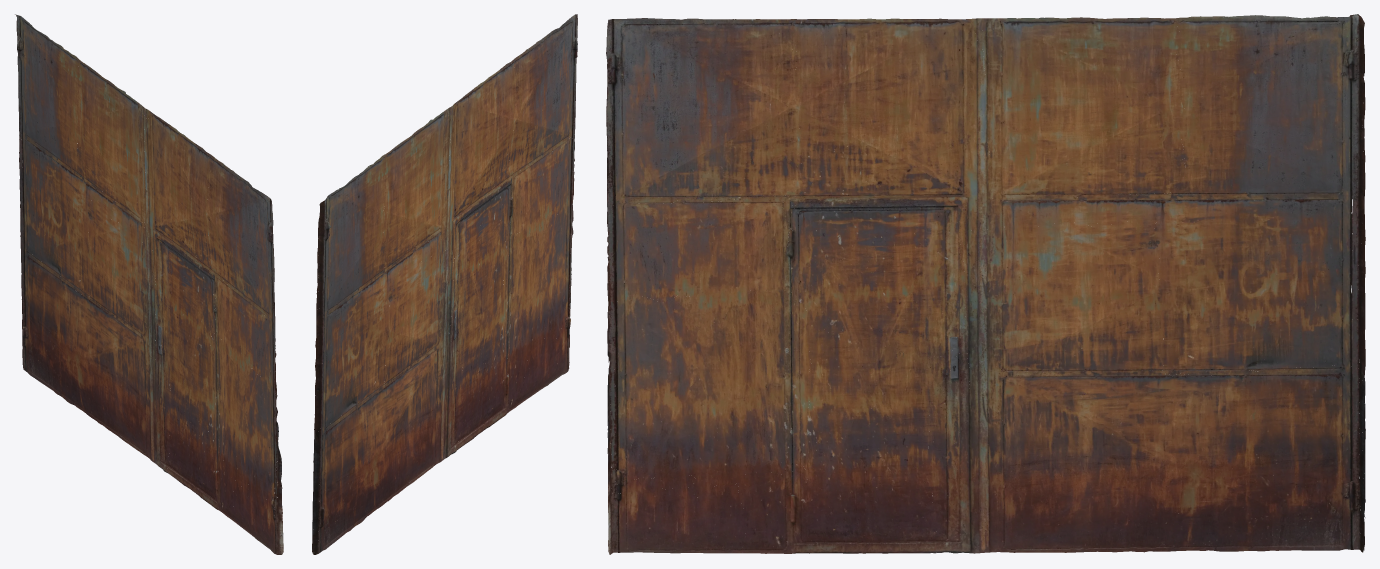
File: sf-rusty-gate-658e2b.glb
The picture shows the model from 3 angles, left to right: view 1: azimuth 30°, elevation 25°; view 2: azimuth 150°, elevation 25°; view 3: azimuth 270°, elevation 25°; orthographic projection. The views are drawn at different scales.
Parts seen in each view (by area): view 1: rusty-gate_rusty-gate_u1_v1_0, rusty-gate_rusty-gate_u2_v1_0; view 2: rusty-gate_rusty-gate_u1_v1_0, rusty-gate_rusty-gate_u2_v1_0; view 3: rusty-gate_rusty-gate_u1_v1_0, rusty-gate_rusty-gate_u2_v1_0.
Boxes of the visible parts, x1,y1,x2,y2 form: rusty-gate_rusty-gate_u1_v1_0: [17, 15, 283, 554]; rusty-gate_rusty-gate_u2_v1_0: [15, 14, 278, 521]; rusty-gate_rusty-gate_u1_v1_0: [312, 14, 577, 554]; rusty-gate_rusty-gate_u2_v1_0: [312, 60, 574, 554]; rusty-gate_rusty-gate_u1_v1_0: [606, 14, 1365, 554]; rusty-gate_rusty-gate_u2_v1_0: [607, 14, 1365, 553].
Bounding box in the file's own units: 0.145 × 3.16 × 4.09.
2 materials, 2 textured.
